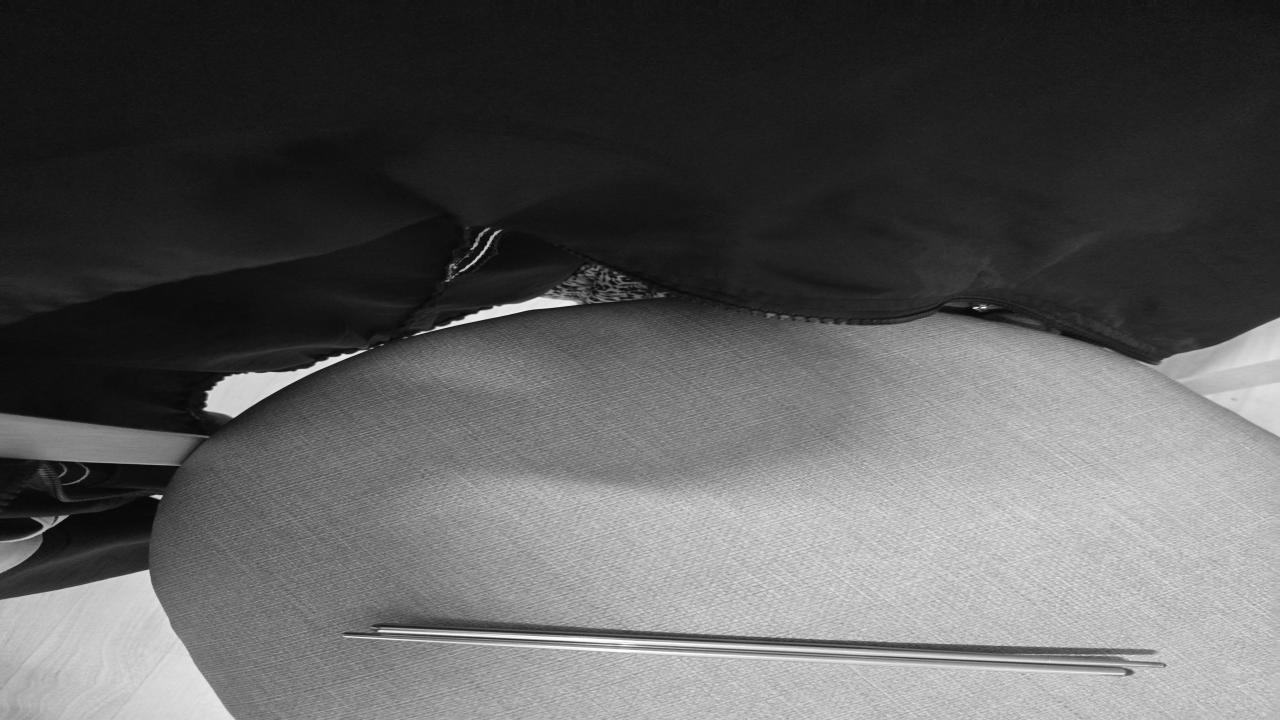chopstick: (354, 625, 1161, 675)
